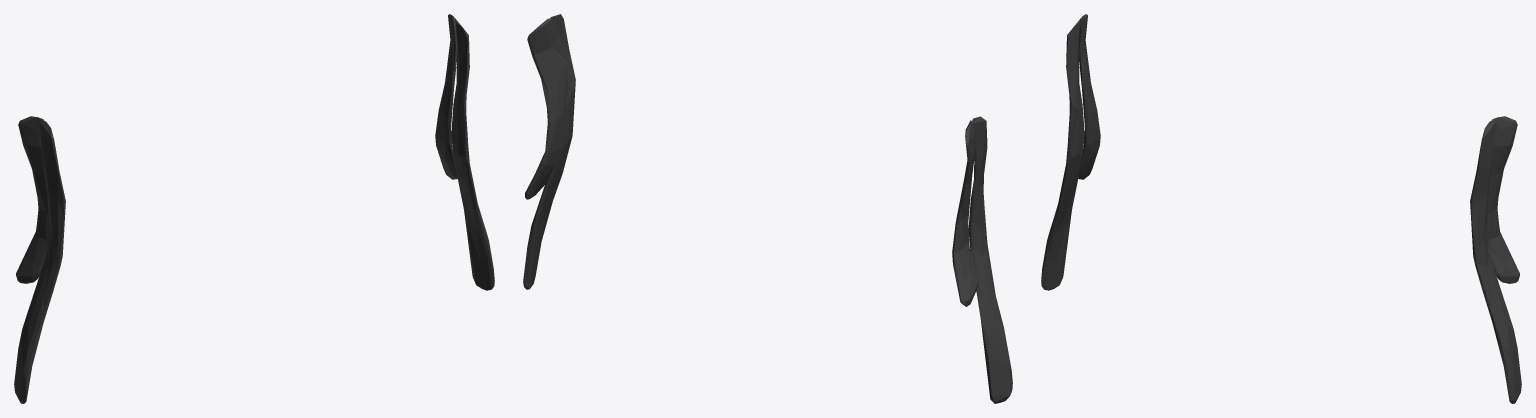
Rendered from lig_medial_collateral_elbow.glb.
The picture shows the model from 3 angles, left to right: view 1: azimuth 30°, elevation 25°; view 2: azimuth 150°, elevation 25°; view 3: azimuth 330°, elevation 25°; orthographic projection.
Visible parts, largest first — view 1: lig_medial_collateral_elbow; view 2: lig_medial_collateral_elbow; view 3: lig_medial_collateral_elbow.
Boxes of the visible parts, <box> form: lig_medial_collateral_elbow: <box>14,14,494,403</box>; lig_medial_collateral_elbow: <box>523,14,1012,403</box>; lig_medial_collateral_elbow: <box>1041,14,1521,403</box>.
Size of the model in its own units: 0.00339 by 0.00188 by 0.00043.
1 material, 1 textured.
